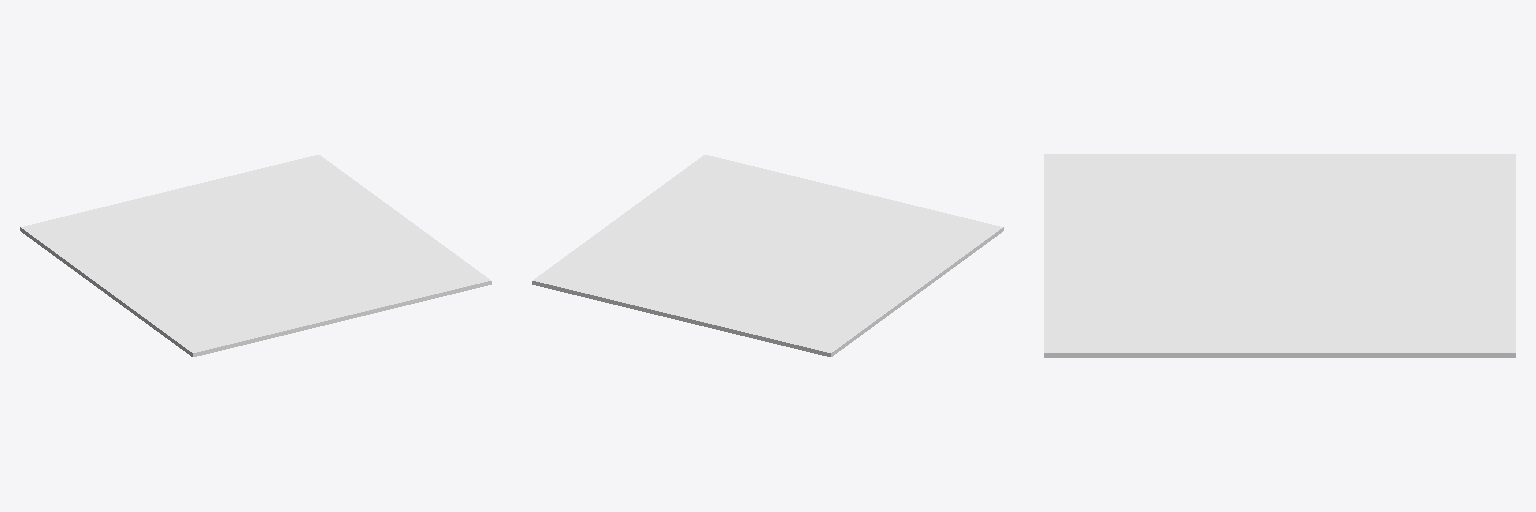
URDF robot description (base plate):
<?xml version="1.0"?>
<!-- created with Phobos 1.0.1 "Capricious Choutengan" -->
  <robot name="base plate">

    <link name="Untitled">
      <inertial>
        <origin xyz="0 0 0" rpy="0 0 0"/>
        <mass value="0.001"/>
        <inertia ixx="0.001" ixy="0" ixz="0" iyy="0.001" iyz="0" izz="0.001"/>
      </inertial>
      <visual name="Cube">
        <origin xyz="0 0 0" rpy="0 0 0"/>
        <geometry>
          <box size="0.75 0.75 0.01"/>
        </geometry>
        <material name="Material.004"/>
      </visual>
    </link>

    <material name="Material.004">
      <color rgba="1 1 1 1.0"/>
    </material>

  </robot>

--- Facts derived from the render (not from the file) ---
3 views of the same robot in one strip: view 1: azimuth 30°, elevation 25°; view 2: azimuth 150°, elevation 25°; view 3: azimuth 270°, elevation 25° (orthographic).
Robot: base plate — 1 links, 0 joints (none); root link Untitled; default pose: every joint at zero.
Visible links, largest first — view 1: Untitled; view 2: Untitled; view 3: Untitled.
Boxes of the visible links, x1,y1,x2,y2 form: Untitled: [20, 155, 491, 356]; Untitled: [532, 155, 1003, 356]; Untitled: [1044, 154, 1515, 357].
Size in the robot's own frame: 0.75 by 0.75 by 0.01 metres.
Geometry: primitives only (box / cylinder / sphere), no mesh files.
